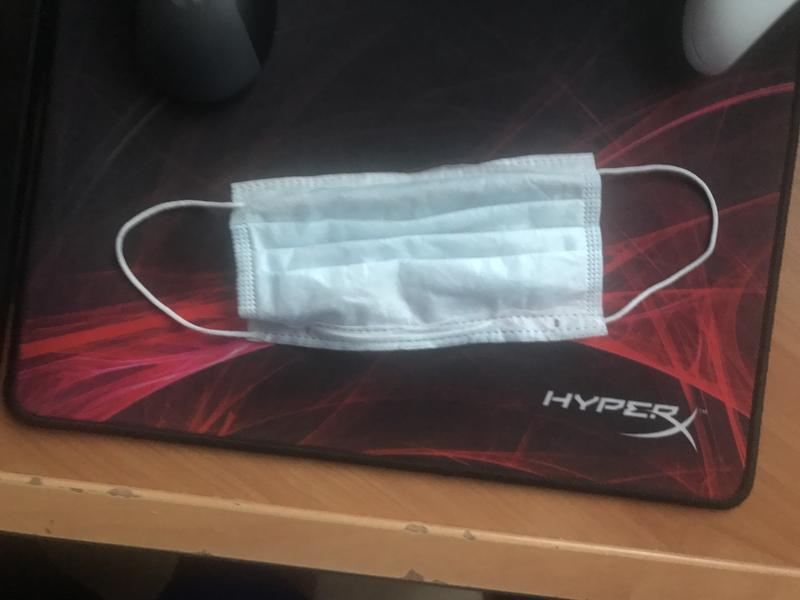medical_mask: (112, 151, 718, 347)
